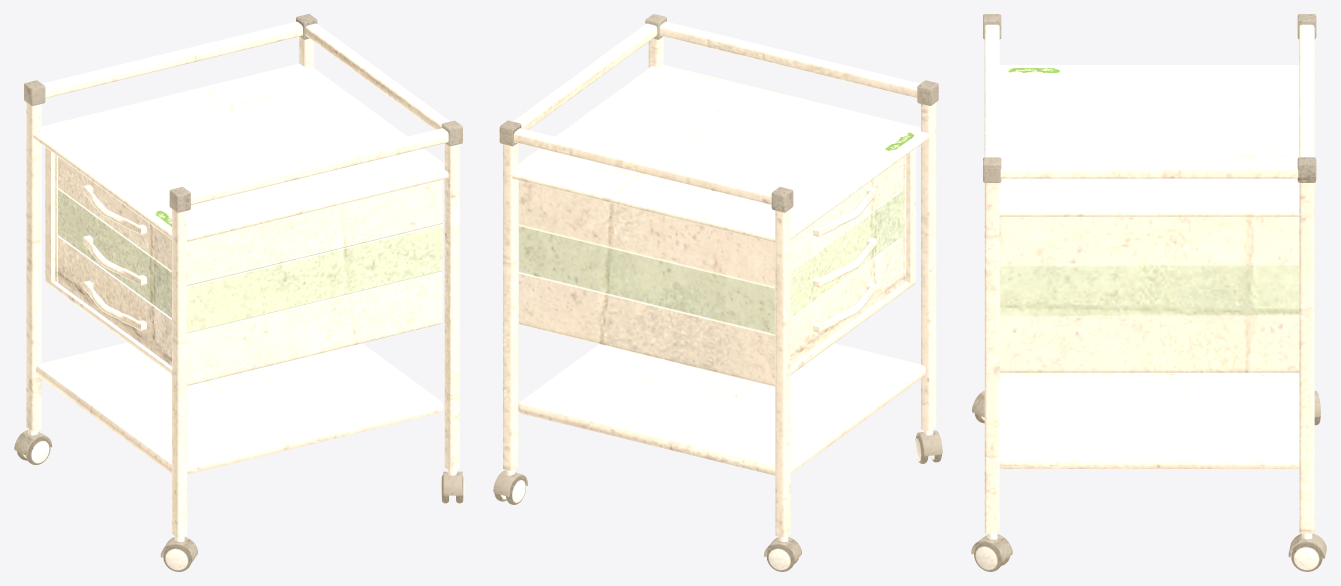
The model's file is SM_OPR_Table_03.fbx.
3 views of the same model, side by side, from view 1: azimuth 30°, elevation 25°; view 2: azimuth 150°, elevation 25°; view 3: azimuth 270°, elevation 25° (orthographic). The views are drawn at different scales.
Parts seen in each view (by area): view 1: SM_OPR_Table_03_LOD0; view 2: SM_OPR_Table_03_LOD0; view 3: SM_OPR_Table_03_LOD0.
Boxes of the visible parts, <box> form: SM_OPR_Table_03_LOD0: <box>14,14,464,571</box>; SM_OPR_Table_03_LOD0: <box>493,14,942,571</box>; SM_OPR_Table_03_LOD0: <box>971,14,1326,571</box>.
Bounding box in the file's own units: 72.68 × 68.14 × 86.25.
Materials: 1 (1 with a texture image).
